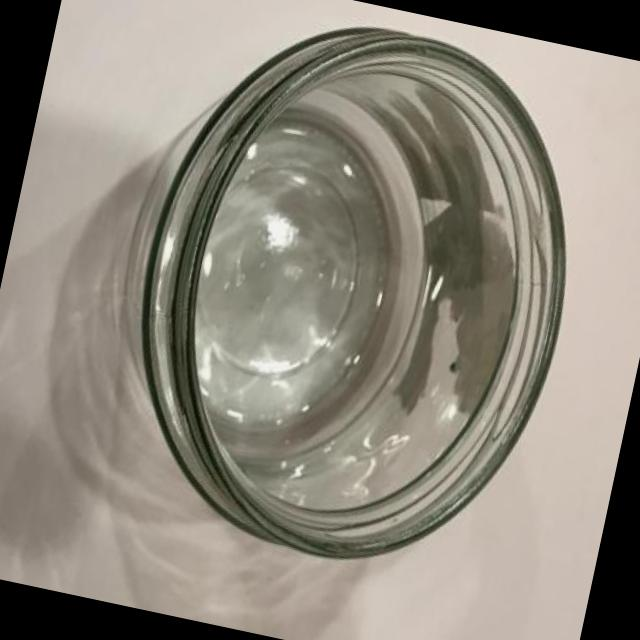chai_thuy_tinh: (140, 28, 565, 558)
